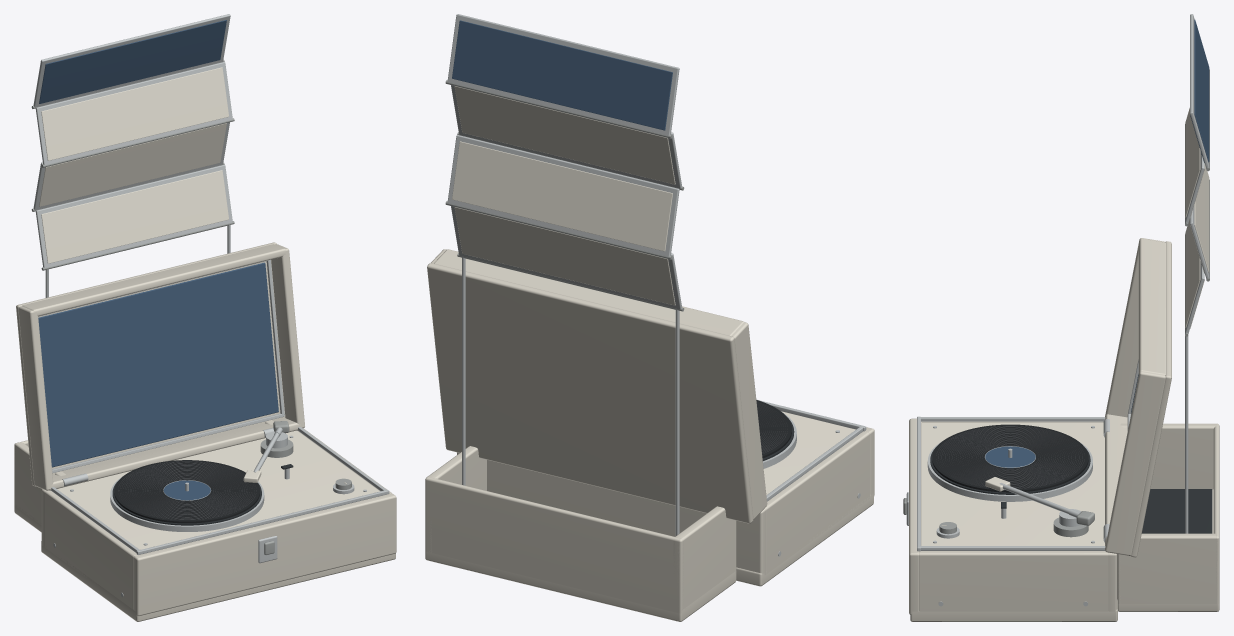
The model's file is record-player.glb.
The picture shows the model from 3 angles, left to right: view 1: azimuth 30°, elevation 25°; view 2: azimuth 150°, elevation 25°; view 3: azimuth 270°, elevation 25°; orthographic projection. The views are drawn at different scales.
Parts seen in each view (by area): view 1: Lid_Hinge_Mesh, Base_Mesh, FoldPanel_01_Hinge_Mesh, FoldPanel_03_Hinge_Mesh, FoldPanel_04_Hinge_Mesh, FoldPanel_02_Hinge_Mesh, Record_Pivot_Mesh, RearStorageWell_Mesh, Platter_Pivot_Mesh, Tonearm_Lift_Mesh; view 2: Lid_Hinge_Mesh, RearStorageWell_Mesh, FoldPanel_02_Hinge_Mesh, FoldPanel_04_Hinge_Mesh, Base_Mesh, FoldPanel_01_Hinge_Mesh, FoldPanel_03_Hinge_Mesh, Fold_Telescopic_Rails_Mesh, Record_Pivot_Mesh; view 3: Base_Mesh, Lid_Hinge_Mesh, RearStorageWell_Mesh, Record_Pivot_Mesh, FoldPanel_04_Hinge_Mesh, Platter_Pivot_Mesh, FoldPanel_02_Hinge_Mesh, FoldPanel_03_Hinge_Mesh, FoldPanel_01_Hinge_Mesh, Tonearm_Lift_Mesh, Fold_Telescopic_Rails_Mesh.
Boxes of the visible parts, x1=… form: Lid_Hinge_Mesh: x1=16, y1=242, x2=304, y2=490; Base_Mesh: x1=41, y1=427, x2=396, y2=621; FoldPanel_01_Hinge_Mesh: x1=35, y1=164, x2=234, y2=270; FoldPanel_03_Hinge_Mesh: x1=35, y1=62, x2=234, y2=167; FoldPanel_04_Hinge_Mesh: x1=31, y1=14, x2=230, y2=108; FoldPanel_02_Hinge_Mesh: x1=31, y1=122, x2=229, y2=211; Record_Pivot_Mesh: x1=114, y1=460, x2=259, y2=523; RearStorageWell_Mesh: x1=14, y1=420, x2=273, y2=532; Platter_Pivot_Mesh: x1=110, y1=476, x2=264, y2=531; Tonearm_Lift_Mesh: x1=243, y1=421, x2=289, y2=483; Lid_Hinge_Mesh: x1=427, y1=249, x2=767, y2=523; RearStorageWell_Mesh: x1=425, y1=446, x2=736, y2=621; FoldPanel_02_Hinge_Mesh: x1=445, y1=135, x2=679, y2=259; FoldPanel_04_Hinge_Mesh: x1=445, y1=14, x2=679, y2=138; Base_Mesh: x1=457, y1=400, x2=874, y2=586; FoldPanel_01_Hinge_Mesh: x1=451, y1=206, x2=684, y2=311; FoldPanel_03_Hinge_Mesh: x1=451, y1=85, x2=684, y2=190; Fold_Telescopic_Rails_Mesh: x1=462, y1=257, x2=679, y2=535; Record_Pivot_Mesh: x1=756, y1=400, x2=791, y2=458; Base_Mesh: x1=903, y1=416, x2=1117, y2=621; Lid_Hinge_Mesh: x1=1105, y1=238, x2=1171, y2=557; RearStorageWell_Mesh: x1=1117, y1=423, x2=1219, y2=611; Record_Pivot_Mesh: x1=932, y1=424, x2=1088, y2=492; FoldPanel_04_Hinge_Mesh: x1=1190, y1=14, x2=1209, y2=171; Platter_Pivot_Mesh: x1=927, y1=442, x2=1092, y2=501; FoldPanel_02_Hinge_Mesh: x1=1190, y1=164, x2=1209, y2=281; FoldPanel_03_Hinge_Mesh: x1=1185, y1=108, x2=1204, y2=226; FoldPanel_01_Hinge_Mesh: x1=1185, y1=219, x2=1204, y2=336; Tonearm_Lift_Mesh: x1=985, y1=477, x2=1094, y2=525; Fold_Telescopic_Rails_Mesh: x1=1185, y1=336, x2=1188, y2=533.
Bounding box in the file's own units: 2.21 × 3.73 × 2.16.
